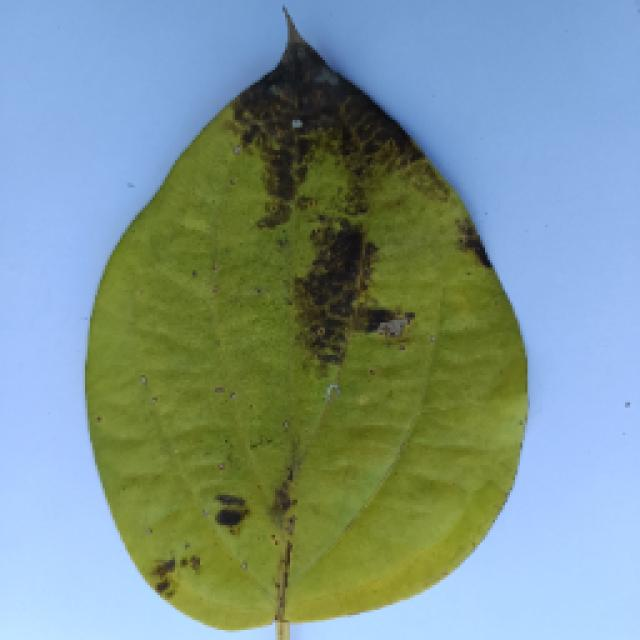slow-decline: (83, 10, 525, 630)
